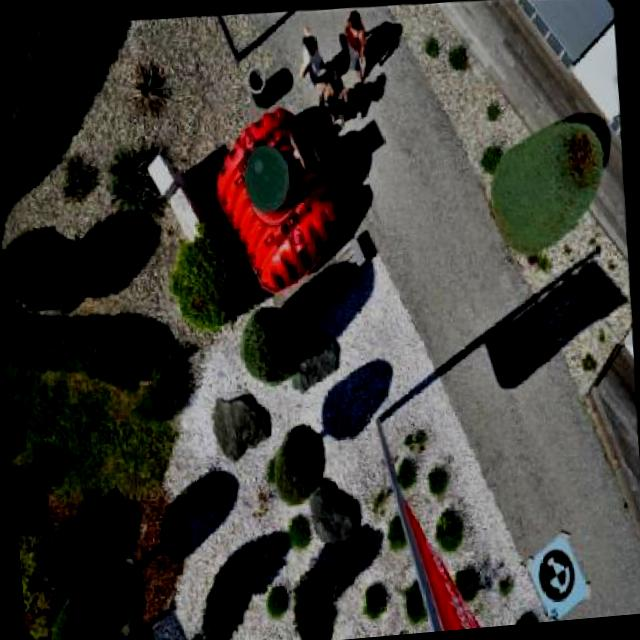Person: (336, 2, 382, 86), (282, 20, 332, 89), (315, 62, 358, 132)
